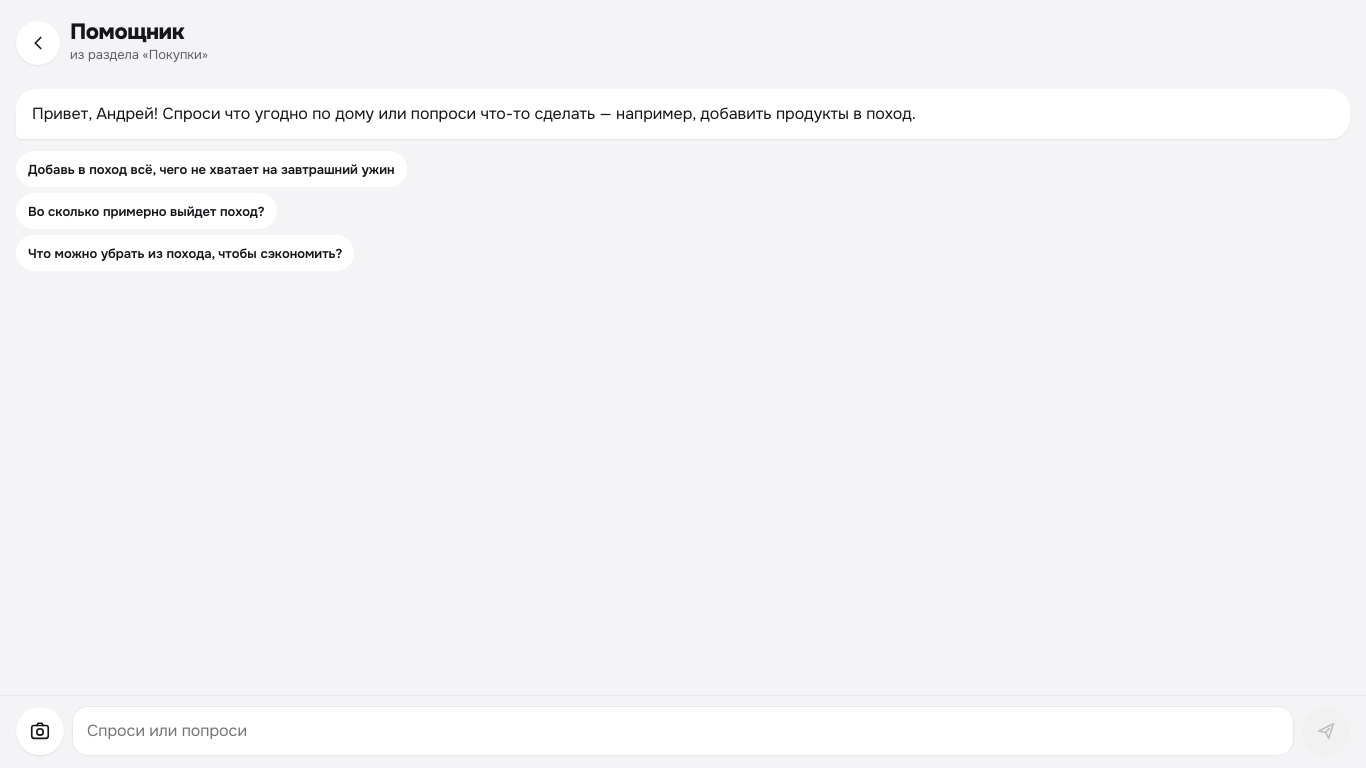
AssistantPage › says plainly when there is no connection and offers to try again
Click the button "Во сколько примерно выйдет поход?": (146, 211) x1=16 y1=193 x2=277 y2=229
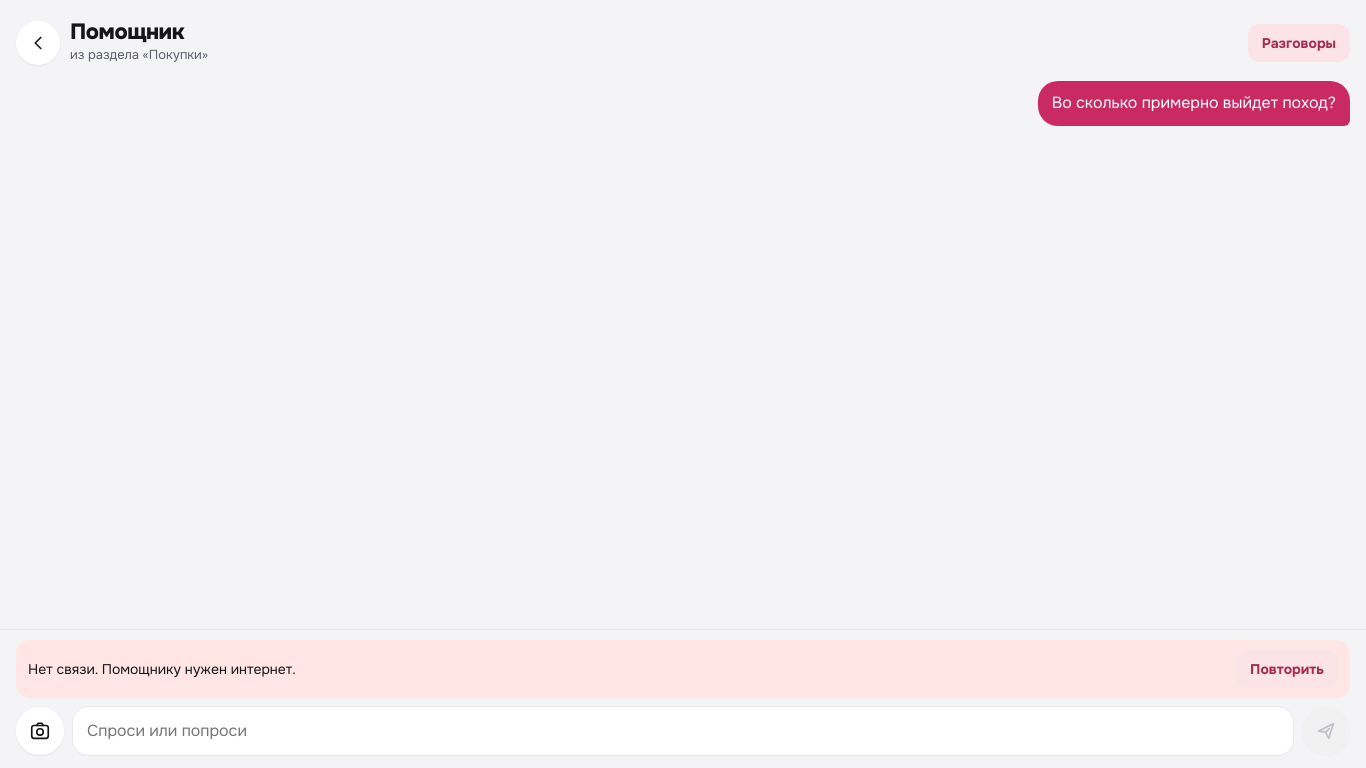
Now the message shows "Нет связи. Помощнику нужен интернет.", box x1=28 y1=660 x2=296 y2=678
Now the button "Повторить" is shown, box x1=1236 y1=650 x2=1338 y2=688
